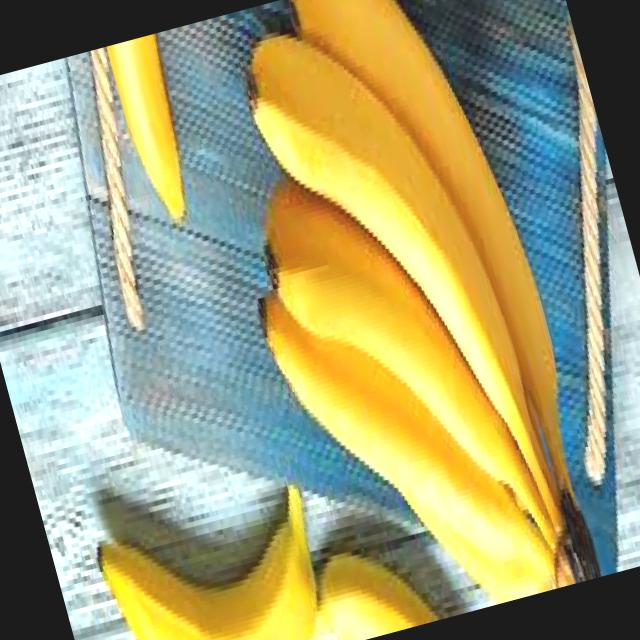Banana: (180, 0, 616, 640), (86, 470, 340, 640), (105, 33, 204, 224), (293, 527, 443, 640)
